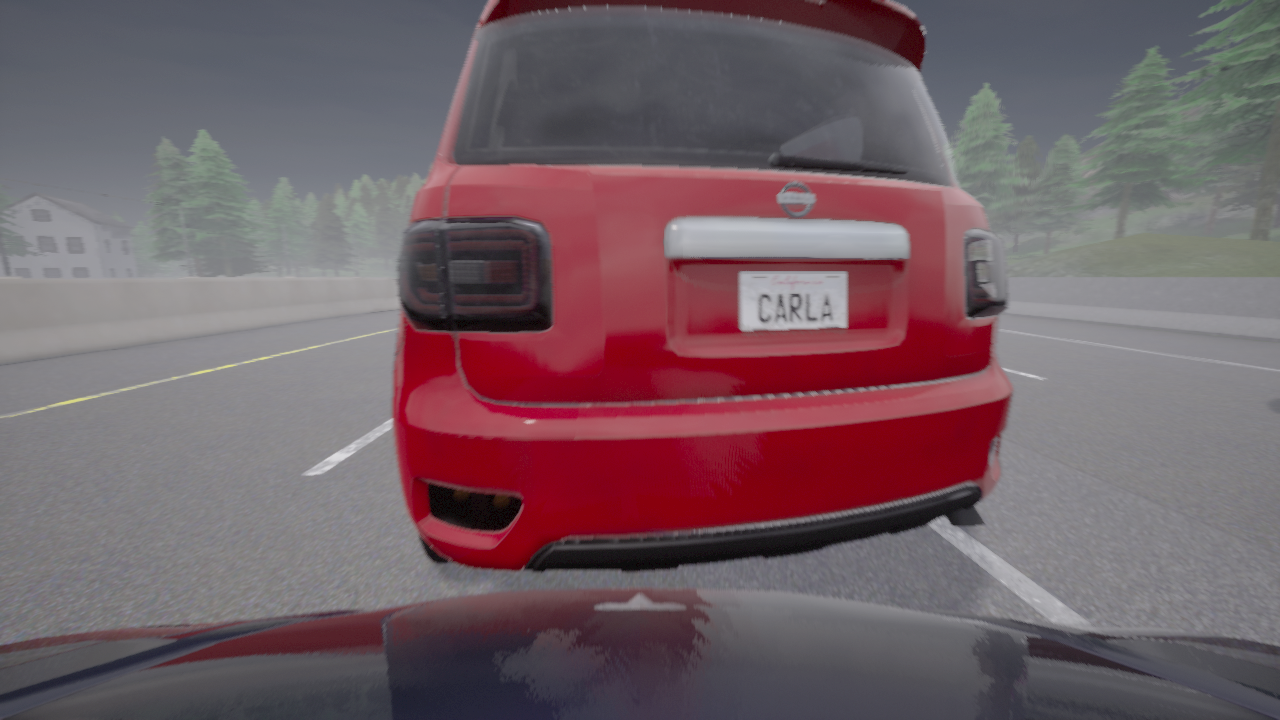cyclist: (392, 0, 1013, 572), (0, 588, 1279, 719)
